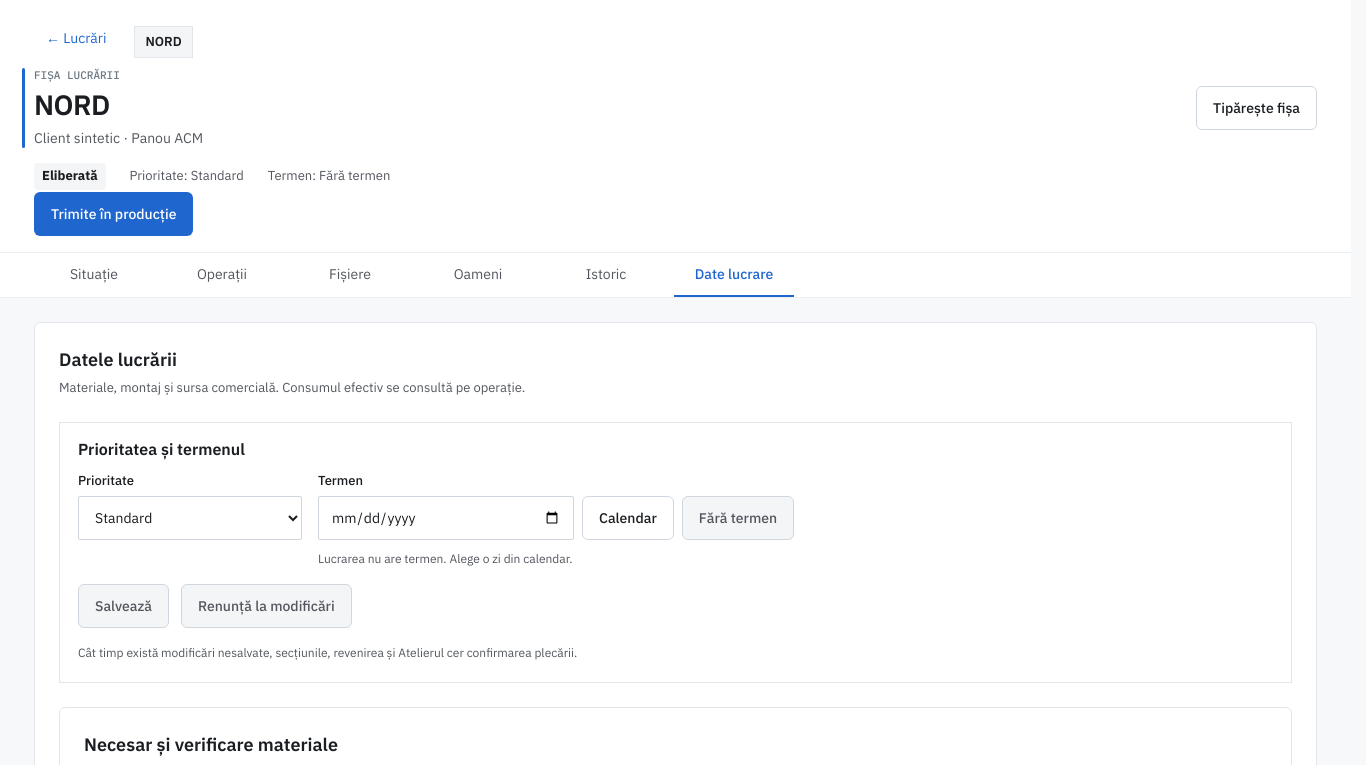
it: job deadline · calendar control (N-022) › choosing a day only changes the draft; saving sends the calendar day as YYYY-MM-DD
Expected: the heading "NORD" is shown, [34,86,110,123]
Type "2026-12-15" into the date field labelled "Termen" at (446, 518), box [318,496,574,540]
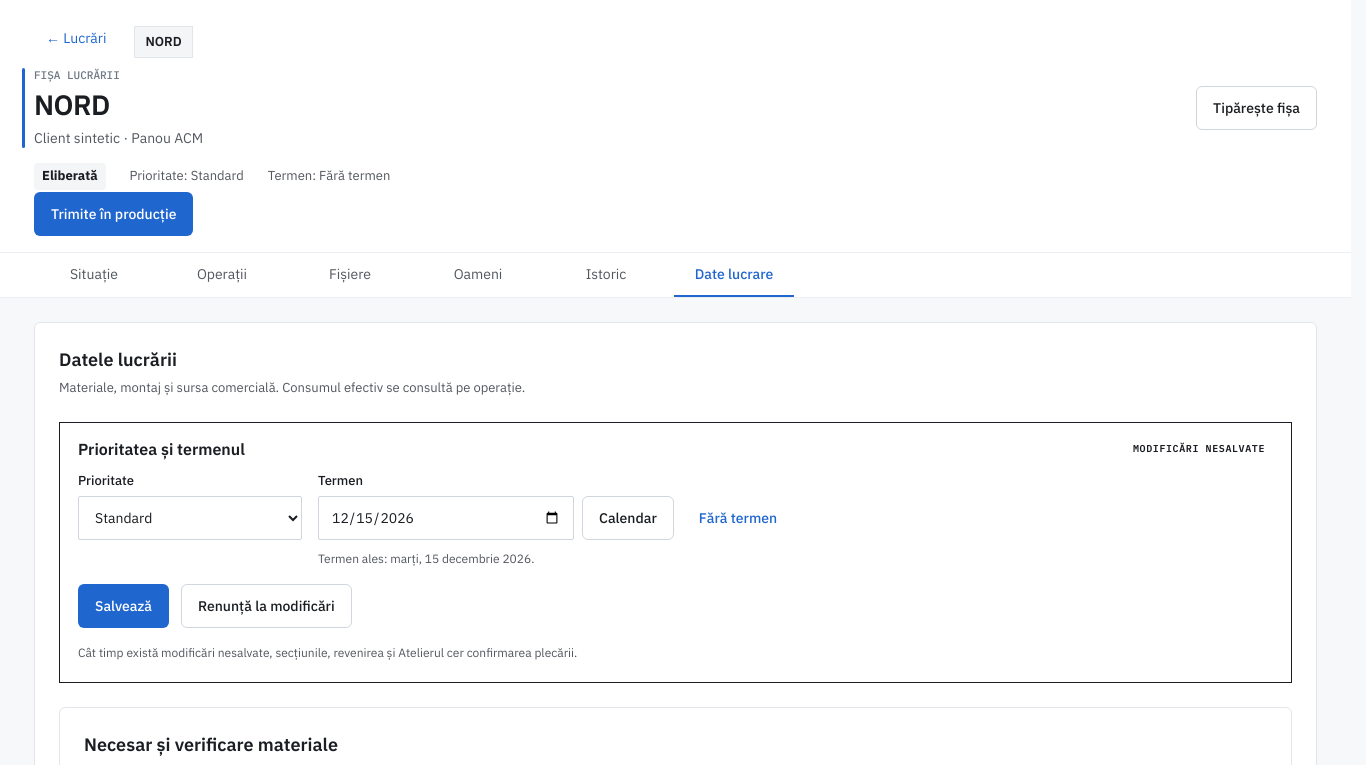
Expected: the text "Modificări nesalvate" is shown, [1125,439,1273,459]
Click the button "Salvează" at (124, 606), box [78,584,169,628]
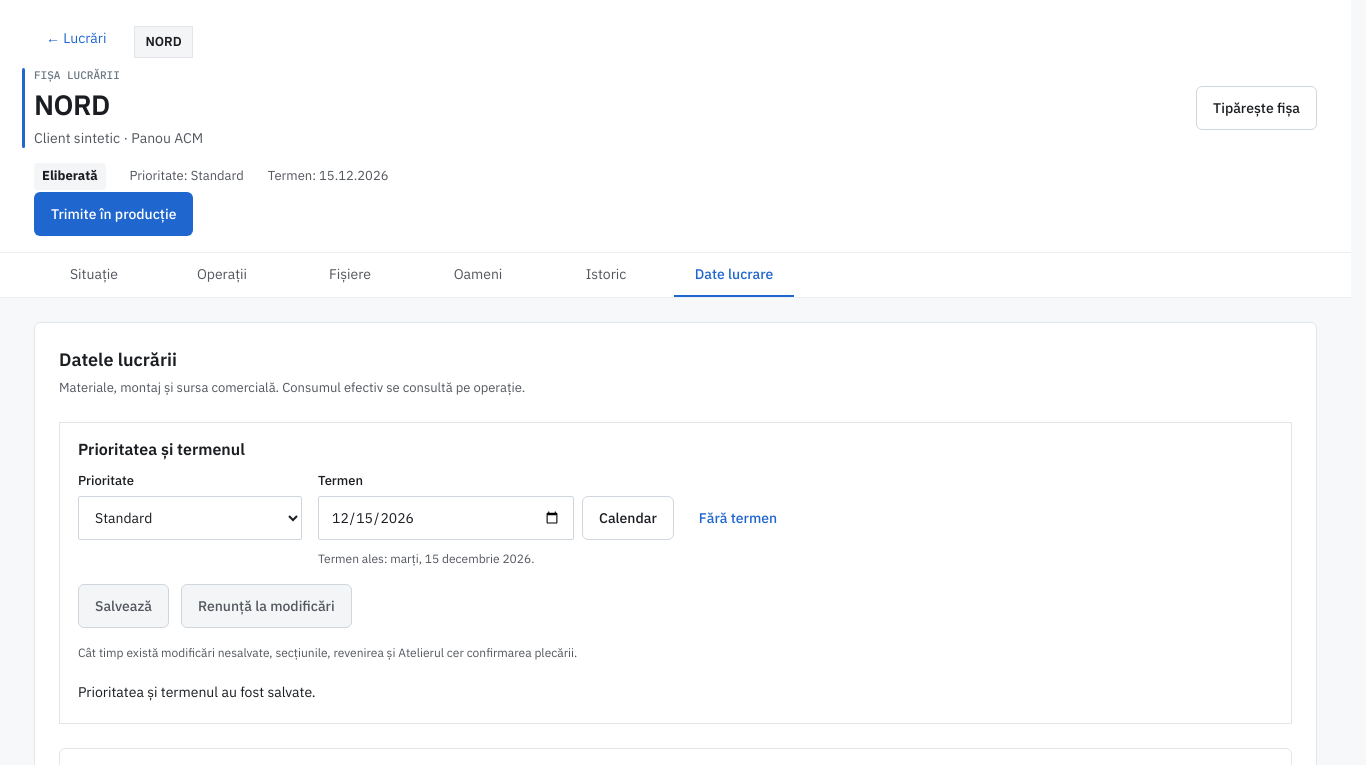
Expected: the text "Prioritatea și termenul au fost salvate." is shown, [78,683,316,701]
